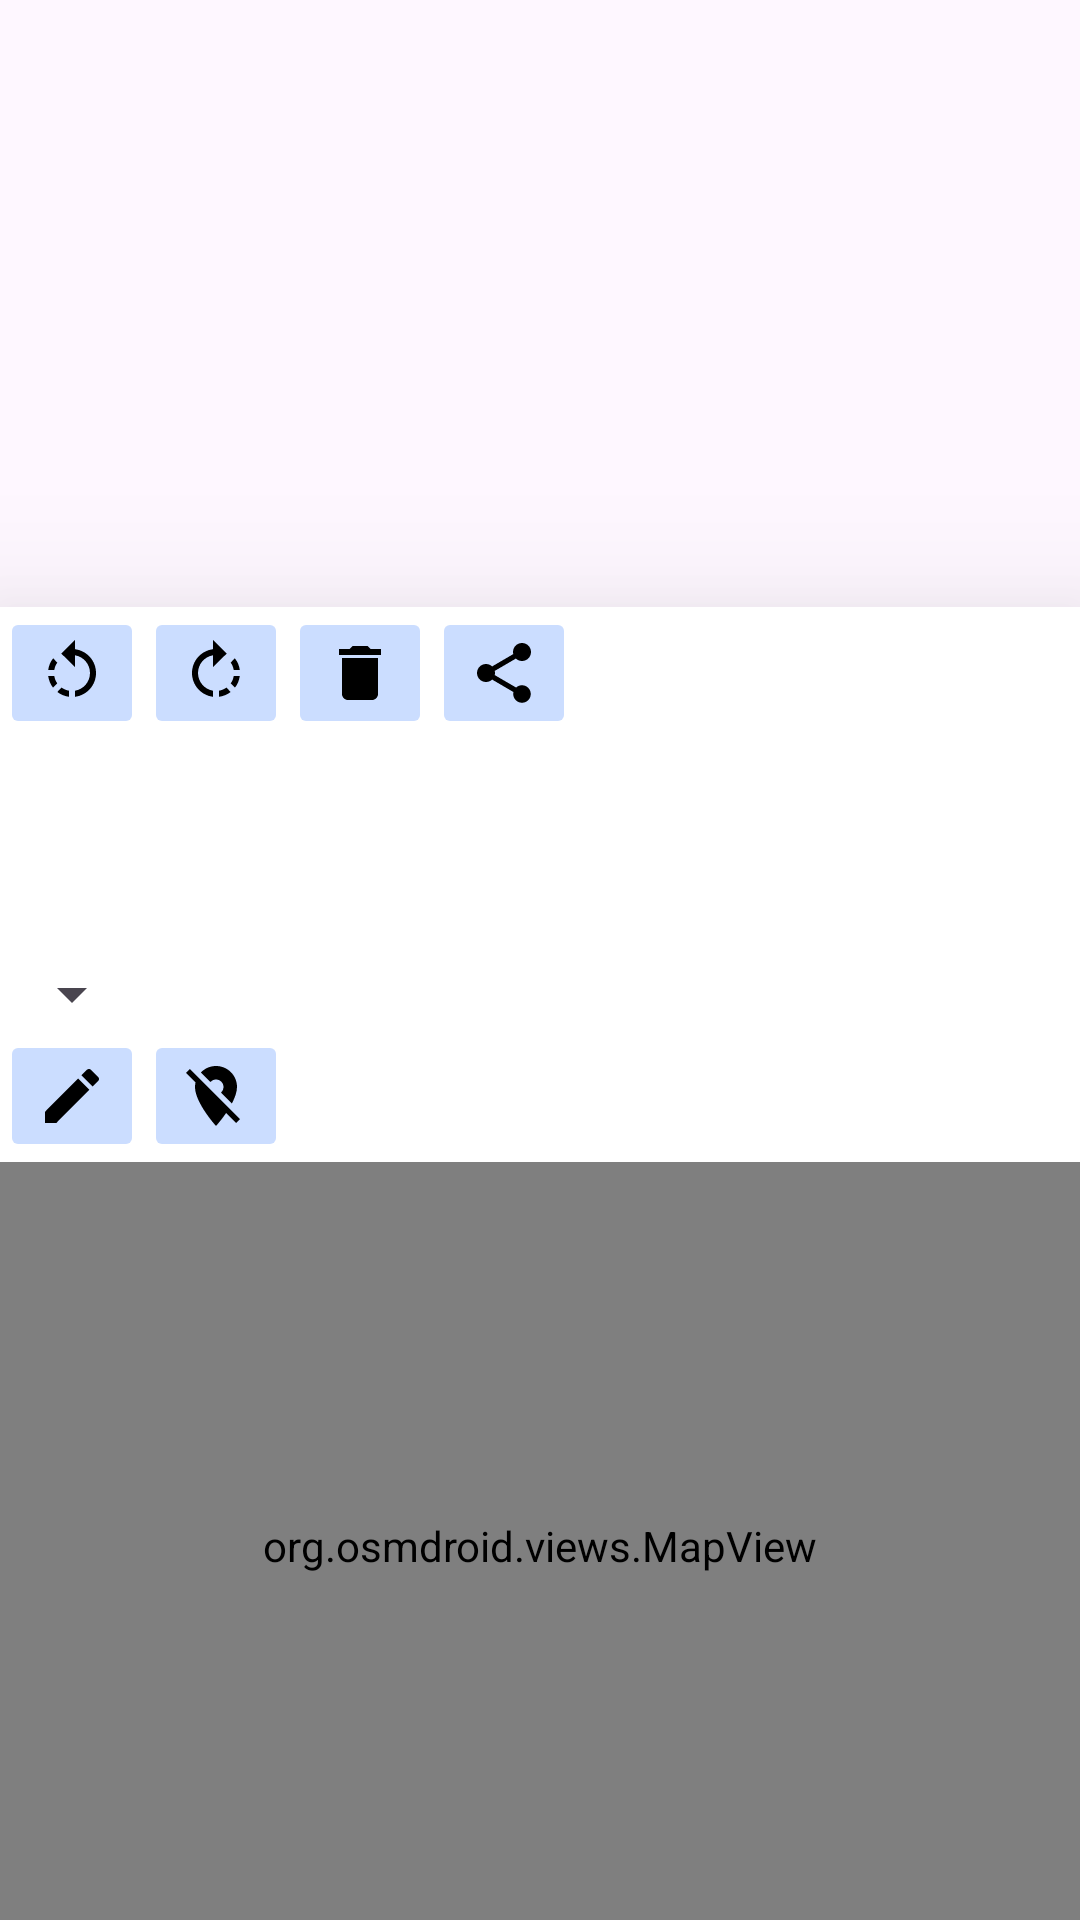

Icons on this 1080 × 1920 Android screen, each with its box as [x1, y1, x2, y2]:
Change location: [12, 1048, 132, 1144]
delete: [300, 625, 420, 721]
location off: [156, 1048, 276, 1144]
Rotate left: [12, 625, 132, 721]
Rotate right: [156, 625, 276, 721]
Share: [444, 625, 564, 721]
